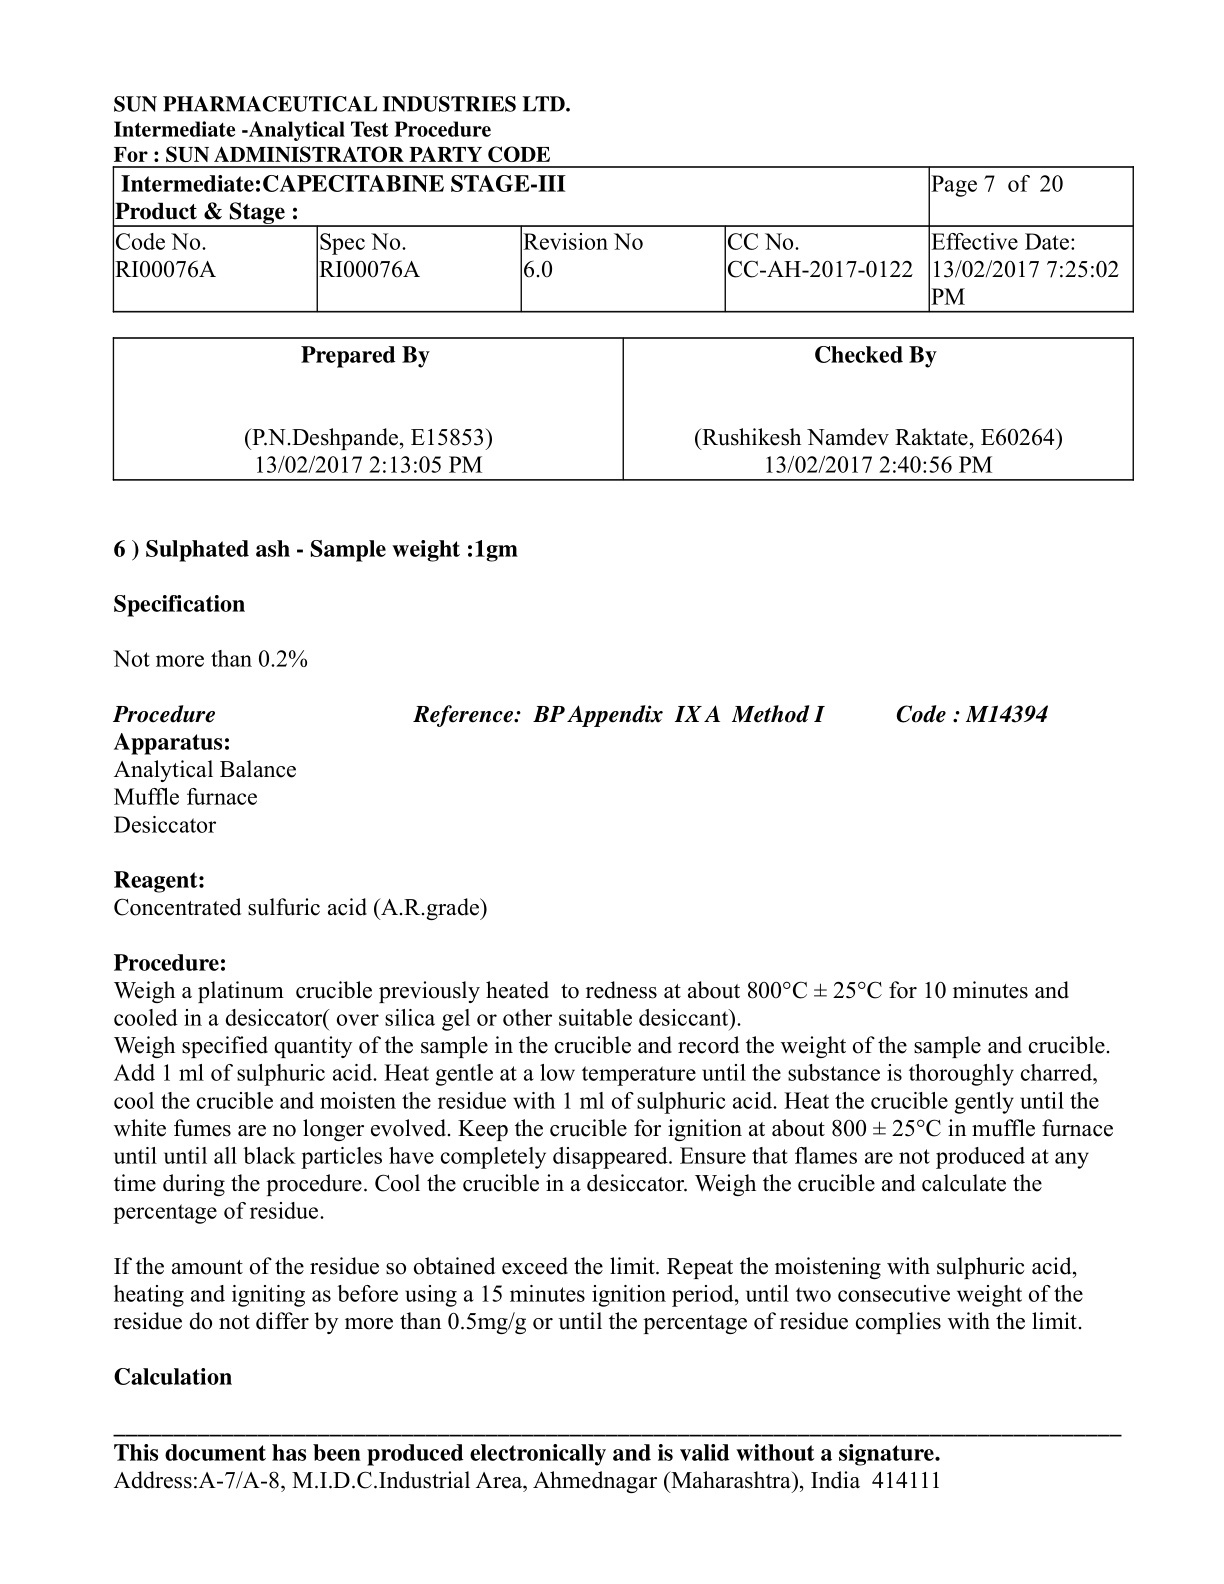full_lined: (111, 336, 1135, 482)
merged_cells: (111, 165, 1135, 312)
